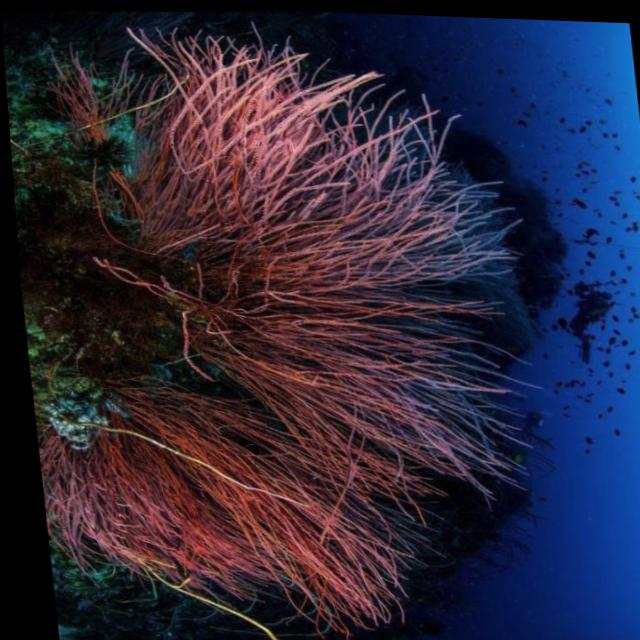Healthy Coral: (9, 11, 574, 640)
